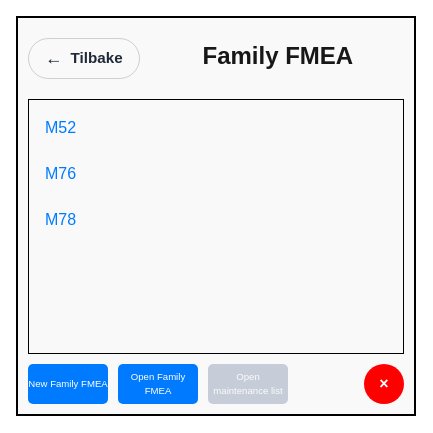
Test: FamilyFmeaHandler › blocks opening when no entry is selected
Click the button "Open Family FMEA" at (158, 384), box [118,364,198,404]
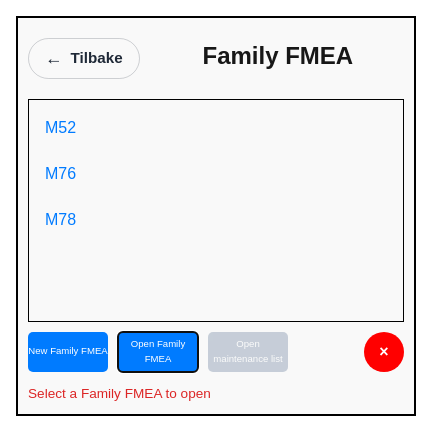
Result: the text "Select a Family FMEA to open" is shown at [28,384,211,404]
